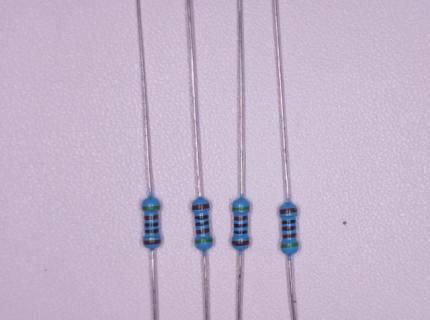Black band: (282, 220, 296, 225), (195, 215, 209, 219), (196, 222, 209, 226), (145, 223, 158, 227), (146, 229, 159, 233), (282, 227, 296, 230), (234, 224, 248, 227), (234, 231, 248, 234)
Brown band: (192, 203, 210, 210), (279, 208, 297, 214), (196, 228, 210, 235), (144, 239, 161, 244), (232, 241, 249, 246), (145, 215, 158, 220), (234, 217, 248, 221), (282, 234, 296, 238)
Green band: (195, 238, 212, 245), (143, 205, 160, 211), (282, 243, 299, 249), (233, 207, 249, 211)
